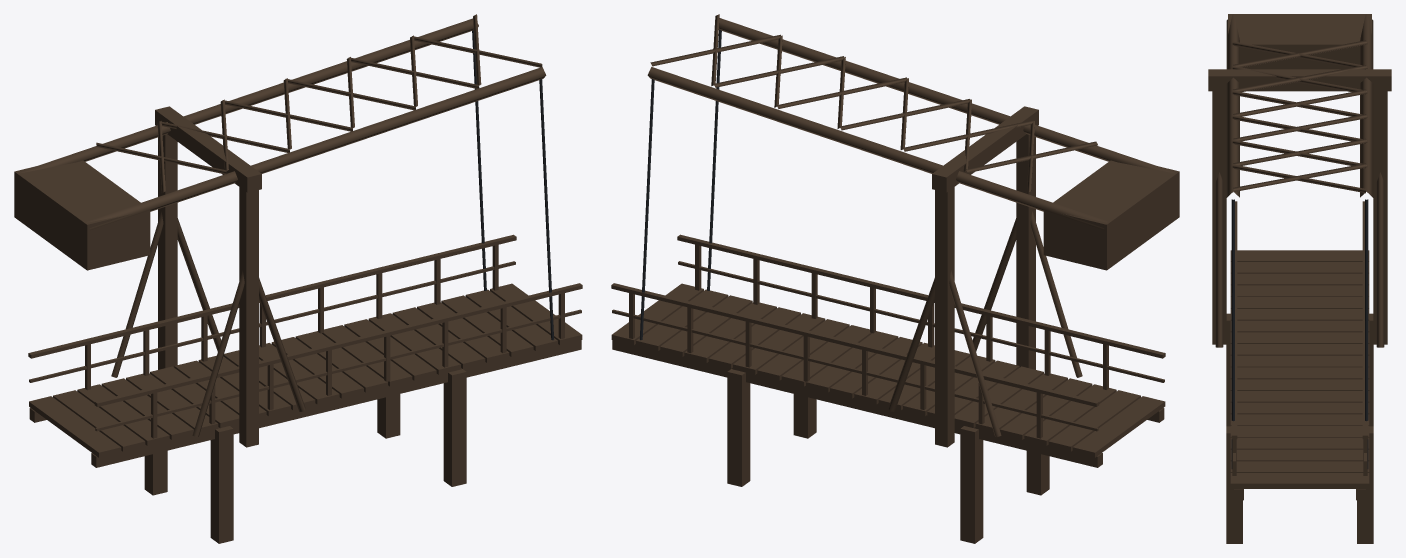
Rendered from drawbridge.glb.
3 views of the same model, side by side, from view 1: azimuth 30°, elevation 25°; view 2: azimuth 150°, elevation 25°; view 3: azimuth 270°, elevation 25° (orthographic).
Parts seen in each view (by area): view 1: drawbridge_mesh; view 2: drawbridge_mesh; view 3: drawbridge_mesh.
Part boxes in pixels (x1,y1,x2,y2): drawbridge_mesh: [14, 14, 582, 543]; drawbridge_mesh: [611, 14, 1179, 543]; drawbridge_mesh: [1208, 14, 1391, 543].
Size of the model in its own units: 10.25 by 7.84 by 3.3.
